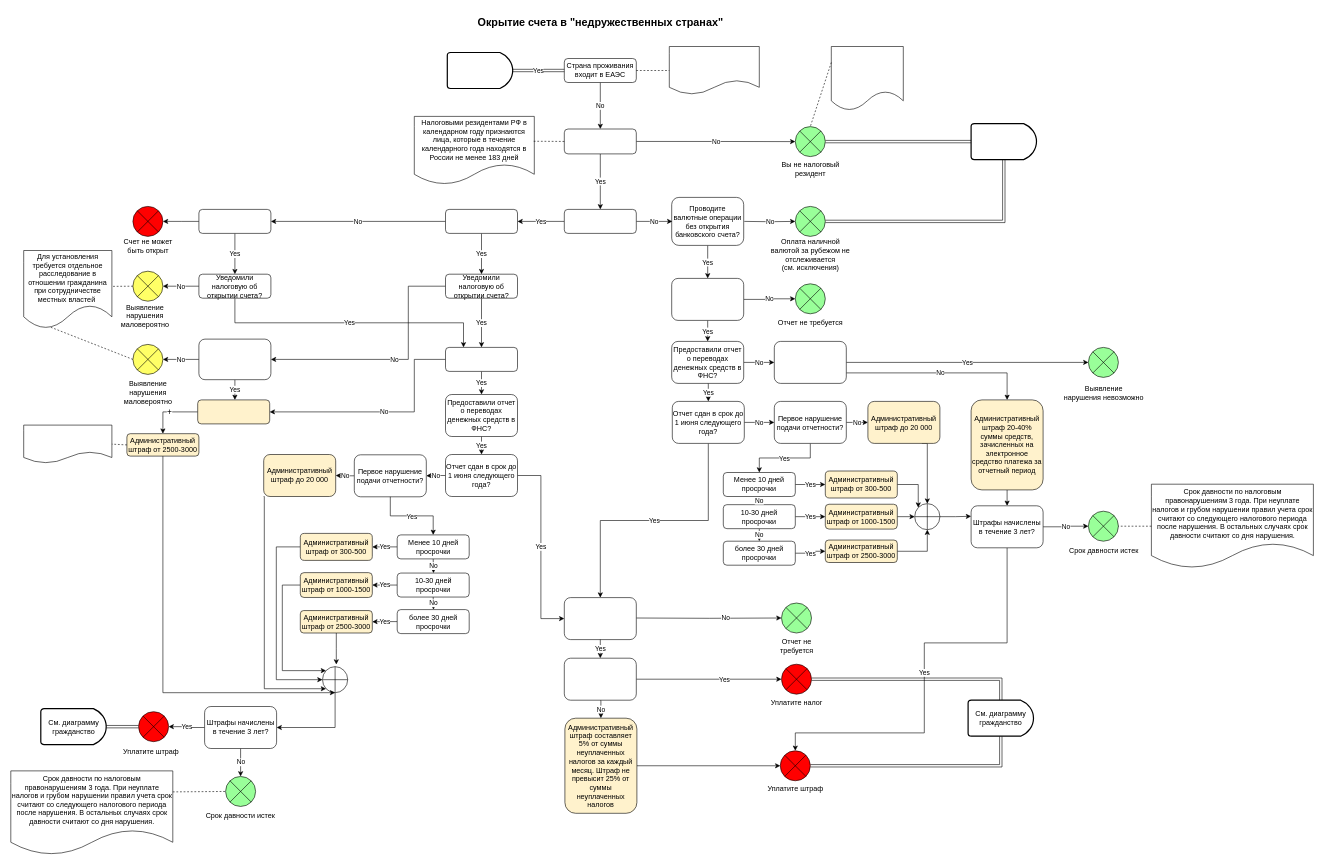
This 1324x865 diagram has some shape labels left out. Each missing label, with the centre of its shape:
"CRS не предполагает обмен информации о налоговых нерезидентах" belongs at (x=867, y=78).
"Административный штраф от 4000-5000" belongs at (x=233, y=411).
"Банк ообменивается информацией в рамках CRS?" belongs at (x=234, y=359).
"Более 600 тыс. рублей или эквивалента в год?" belongs at (x=707, y=299).
"Кошелек анонимный и не связан с CRS?" belongs at (x=810, y=362).
"Открываете банковский счёт?" belongs at (x=600, y=221).
"Отчет о движении денежных средств не сдан" belongs at (x=67, y=443).
"Предоставили 3-НДФЛ до 30 апреля следующего года?" belongs at (x=600, y=679).
"Предоставили BSN?" belongs at (x=234, y=221).
"Предоставили ИНН?" belongs at (x=481, y=221).
"Республика Беларусь, Казахстан, Кыргызская Республика и Армения" belongs at (x=714, y=70).
"См. диаграмму валютное резидентсво" belongs at (x=1003, y=141).
"См. диаграмму счет ЕАЭС" belongs at (x=479, y=70).
"Сумма на кошельке/счете квалифицирована как доход?" belongs at (x=600, y=618).
"Уведомили в течение одного месяца?" belongs at (x=481, y=359).
"Являетесь налоговым резидентом РФ?" belongs at (x=600, y=141).
